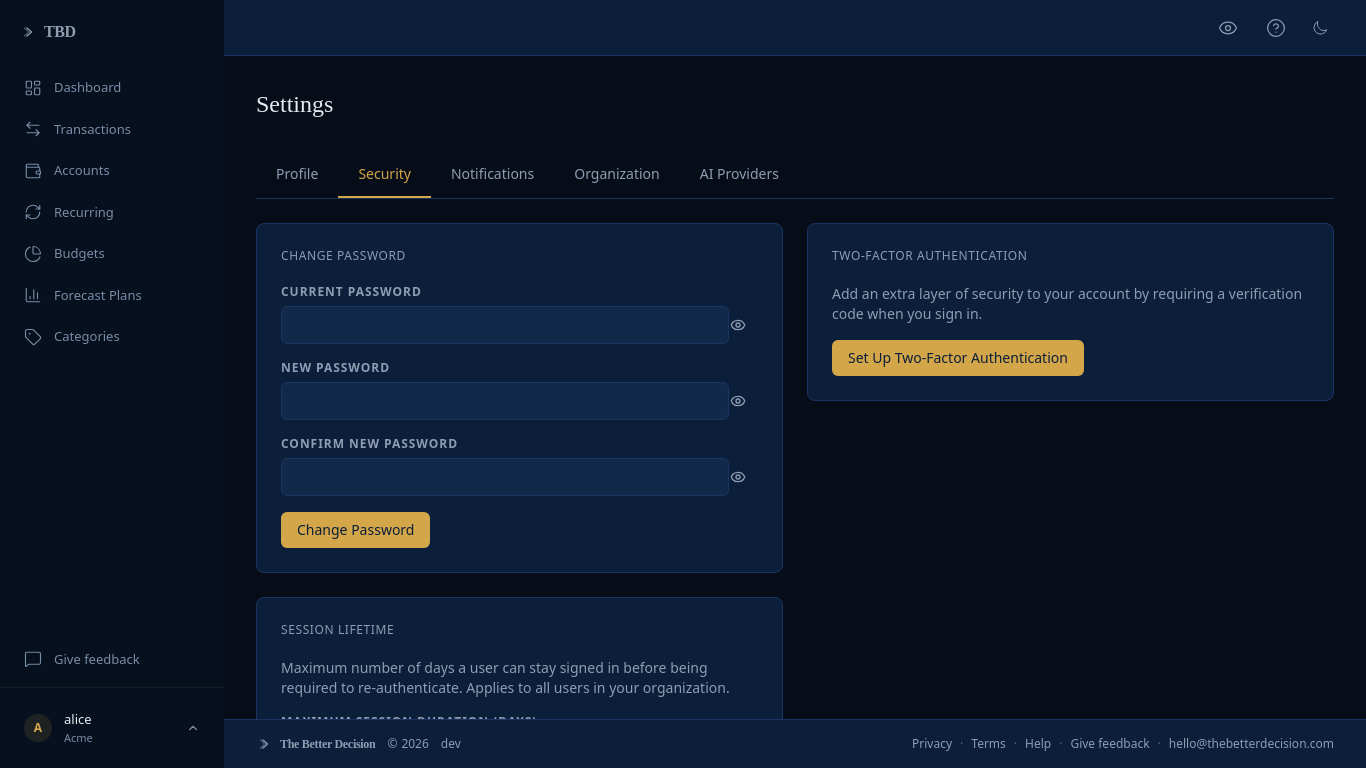
Test: Security page: re-authentication before MFA setup (BE-32) › maps a wrong password to a friendly message
Click the button "Set Up Two-Factor Authentication" at (958, 358), box 832,340 -> 1084,376
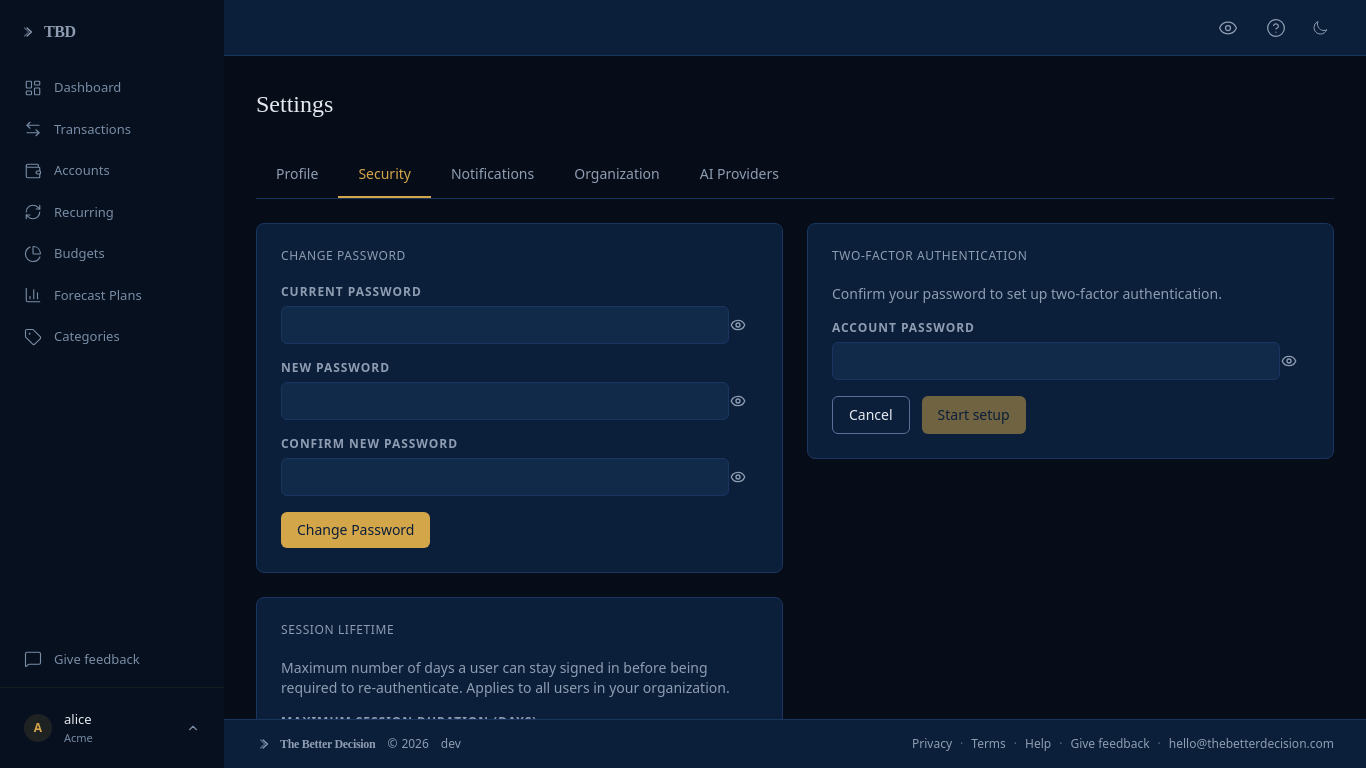
Type "x" into the password field labelled "Account password" at (1056, 361), box 832,342 -> 1280,380
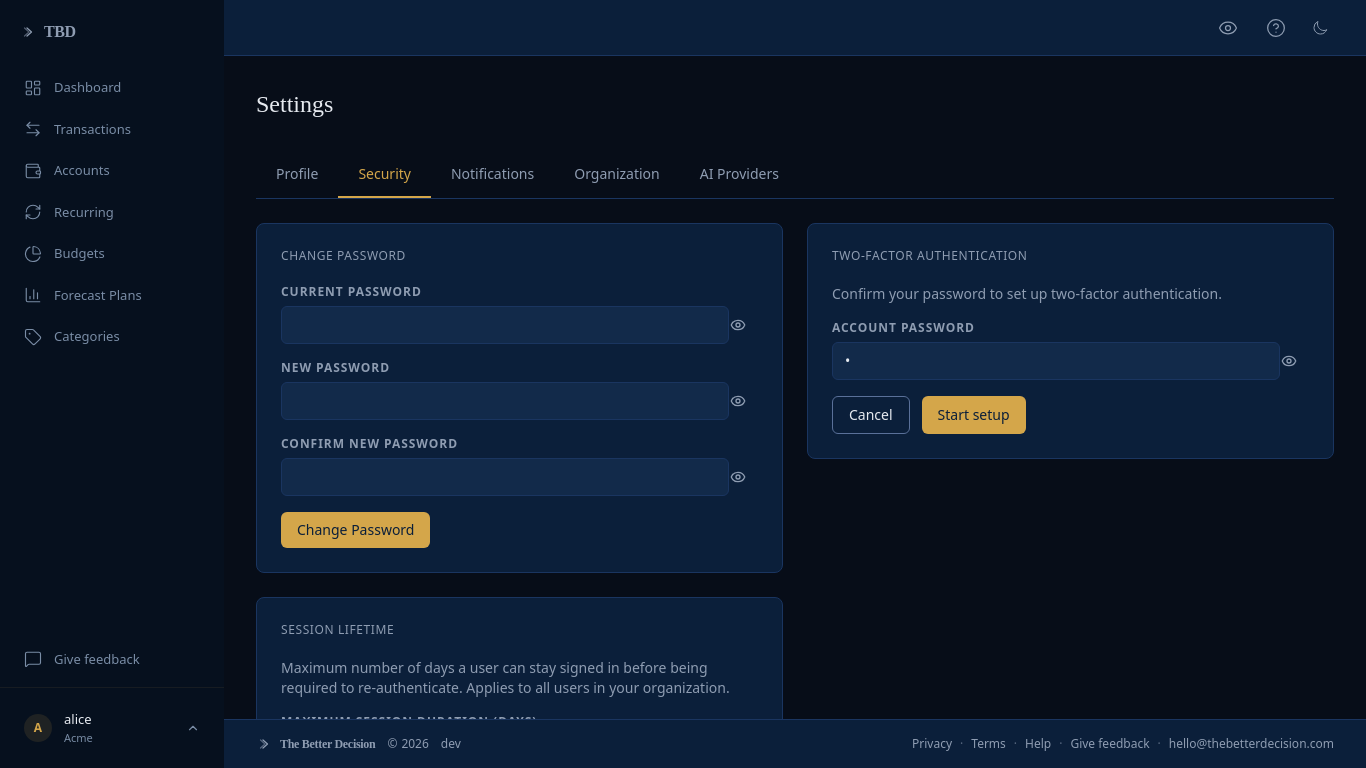
Click the button "Start setup" at (974, 415), box 922,396 -> 1026,434
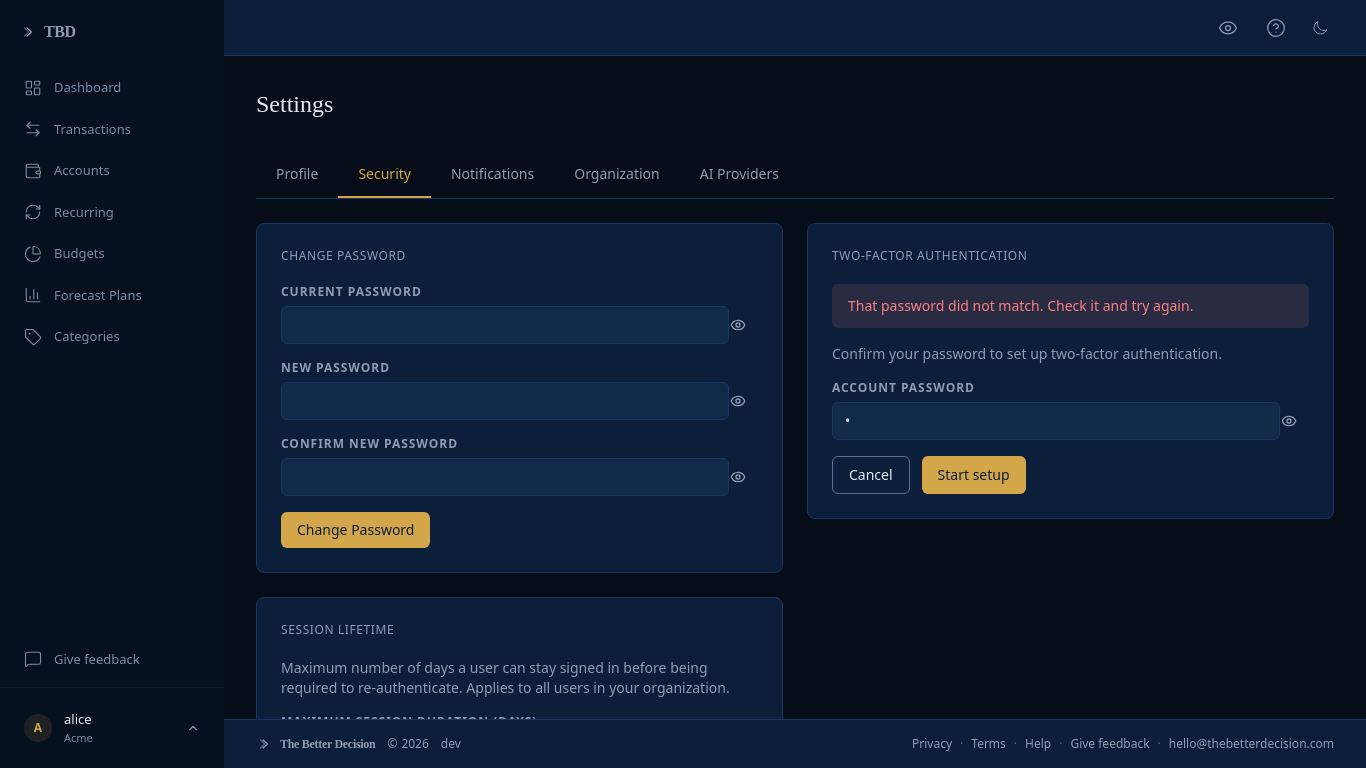
Expected: the message shows "password did not match", 848,296 -> 1193,315
